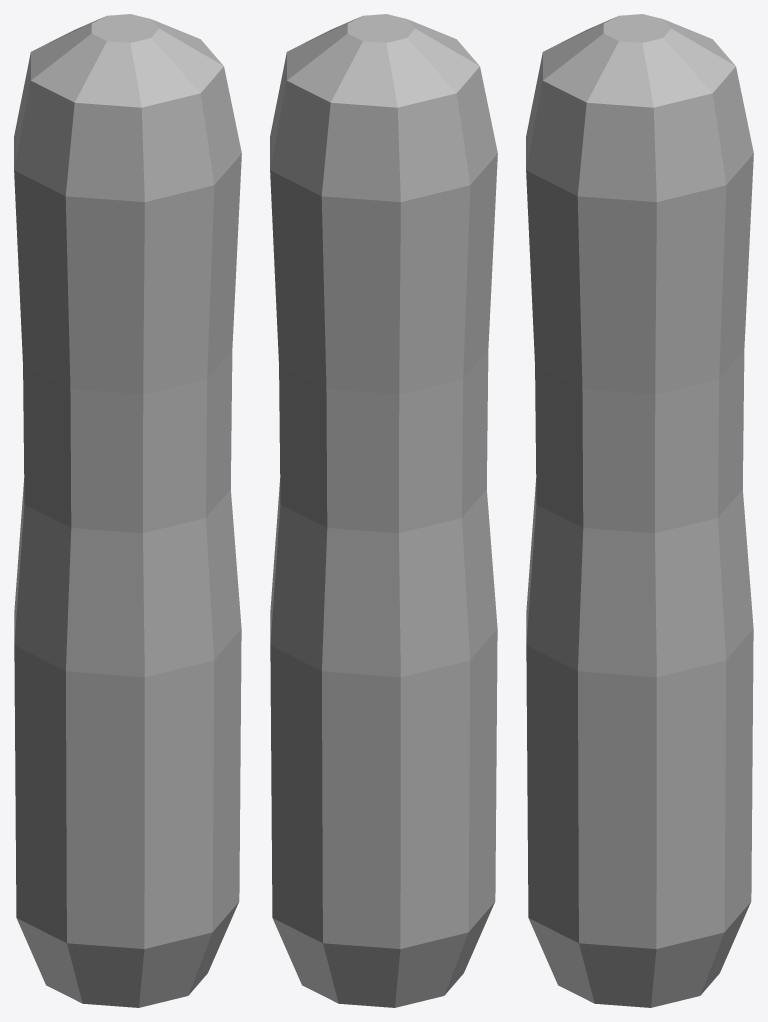
File: Cucumber_03.fbx
3 renders of one model, left to right at view 1: azimuth 30°, elevation 25°; view 2: azimuth 150°, elevation 25°; view 3: azimuth 270°, elevation 25°, orthographic.
Parts seen in each view (by area): view 1: Cucumber_03; view 2: Cucumber_03; view 3: Cucumber_03.
Boxes of the visible parts, <box> form: Cucumber_03: <box>14,14,241,1007</box>; Cucumber_03: <box>270,14,497,1007</box>; Cucumber_03: <box>526,14,753,1007</box>.
Bounding box in the file's own units: 0.0521 × 0.2389 × 0.0513.
